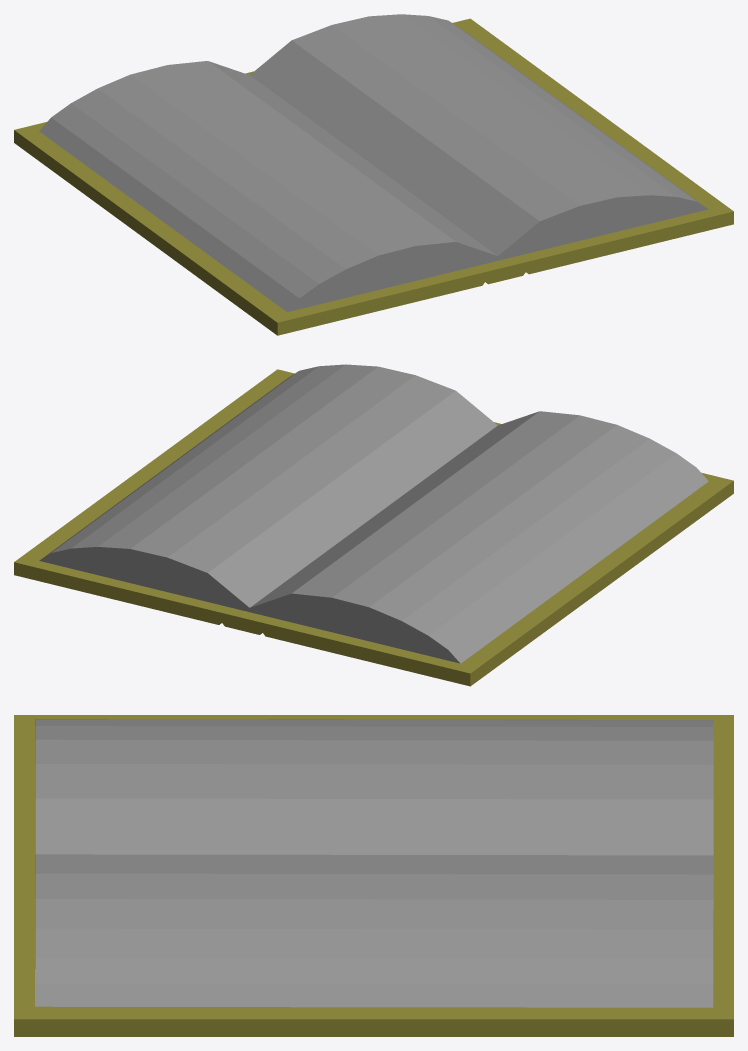
File: Book_Open.glb
3 renders of one model, top to bottom at view 1: azimuth 30°, elevation 25°; view 2: azimuth 150°, elevation 25°; view 3: azimuth 270°, elevation 25°, orthographic. The views are drawn at different scales.
Visible parts, largest first — view 1: Cube; view 2: Cube; view 3: Cube.
Part boxes in pixels (bbox=[...]): Cube: bbox=[14, 14, 733, 335]; Cube: bbox=[14, 364, 733, 686]; Cube: bbox=[14, 715, 733, 1036].
Size of the model in its own units: 2 by 0.2026 by 2.
